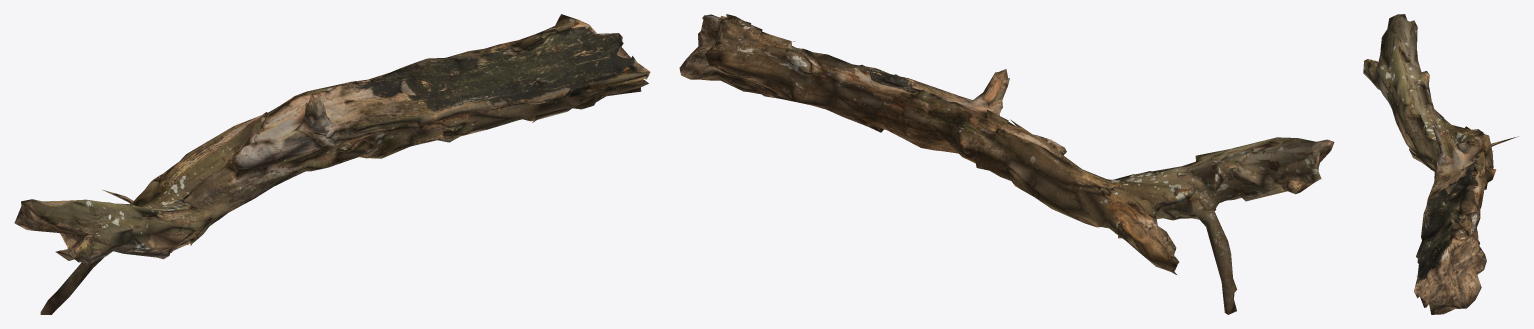
The model's file is dead_tree_trunk_02.gltf.
3 views of the same model, side by side, from view 1: azimuth 30°, elevation 25°; view 2: azimuth 150°, elevation 25°; view 3: azimuth 270°, elevation 25° (orthographic). The views are drawn at different scales.
Visible parts, largest first — view 1: dead_tree_trunk_02; view 2: dead_tree_trunk_02; view 3: dead_tree_trunk_02.
Boxes of the visible parts, left/top/right/bottom form: dead_tree_trunk_02: left=14, top=14, right=650, bottom=314; dead_tree_trunk_02: left=679, top=14, right=1334, bottom=314; dead_tree_trunk_02: left=1363, top=14, right=1518, bottom=314.
Bounding box in the file's own units: 4.05 × 1.05 × 1.05.
Materials: 1 (1 with a texture image).
